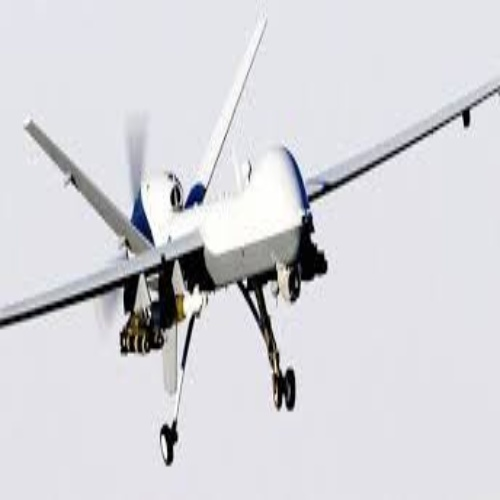uav481: (4, 10, 500, 465)
